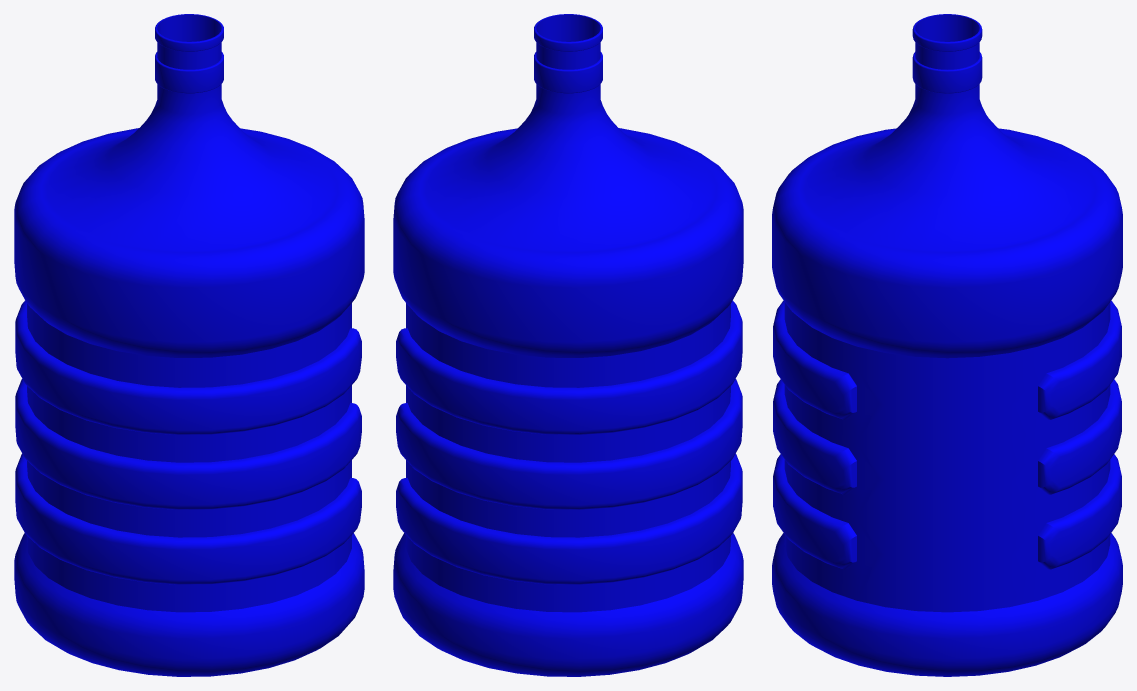
Rendered from Gallon.fbx.
3 views of the same model, side by side, from view 1: azimuth 30°, elevation 25°; view 2: azimuth 150°, elevation 25°; view 3: azimuth 270°, elevation 25° (orthographic).
Visible parts, largest first — view 1: Galon Usang; view 2: Galon Usang; view 3: Galon Usang.
Boxes of the visible parts, box(x1,y1,x2,y2) form: Galon Usang: box(14, 14, 364, 676); Galon Usang: box(393, 14, 743, 676); Galon Usang: box(772, 14, 1122, 676).
Size of the model in its own units: 169 by 311 by 169.
